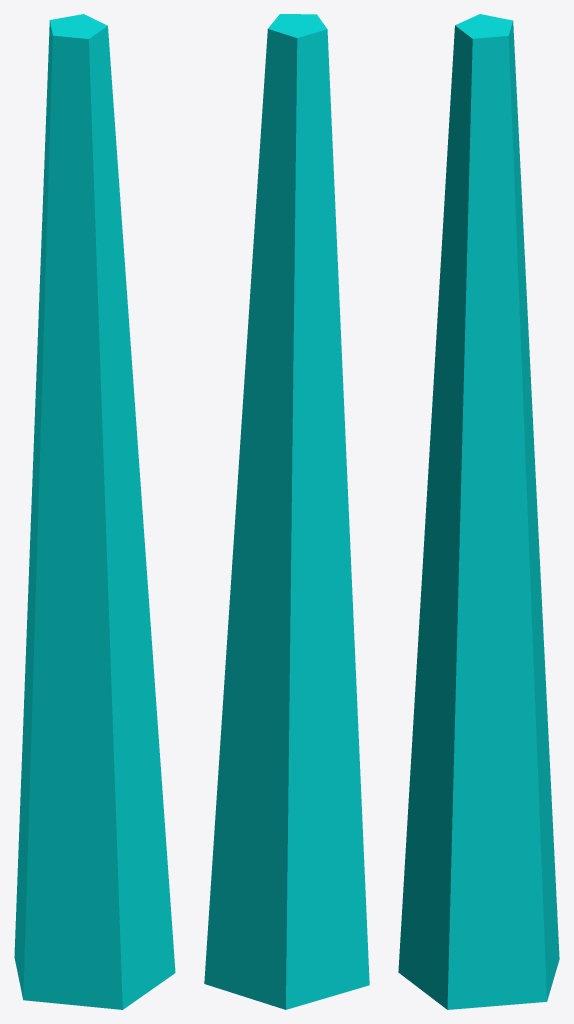
File: SM_Env_Tree_03_Collision.fbx
3 views of the same model, side by side, from view 1: azimuth 30°, elevation 25°; view 2: azimuth 150°, elevation 25°; view 3: azimuth 270°, elevation 25° (orthographic).
Parts seen in each view (by area): view 1: SM_Env_Tree_03_Collision; view 2: SM_Env_Tree_03_Collision; view 3: SM_Env_Tree_03_Collision.
Part boxes in pixels (box(x1,y1,x2,y2)): SM_Env_Tree_03_Collision: box(14, 14, 175, 1009); SM_Env_Tree_03_Collision: box(204, 14, 369, 1009); SM_Env_Tree_03_Collision: box(398, 14, 559, 1009).
Bounding box in the file's own units: 63.52 × 406 × 62.84.
